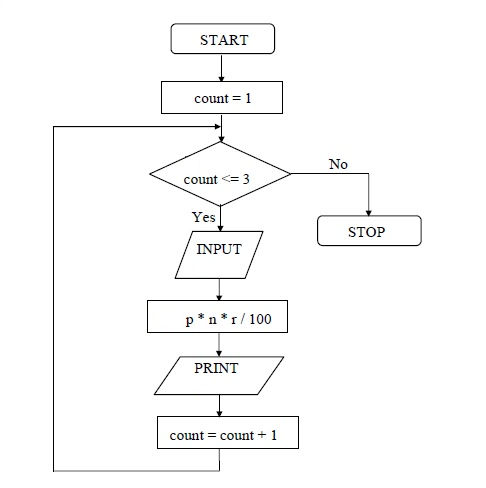arrow: (48, 123, 223, 474), (286, 171, 374, 217), (214, 276, 225, 300), (215, 206, 225, 231), (217, 114, 226, 141), (214, 331, 223, 358), (214, 394, 224, 416), (218, 54, 225, 81)
data: (152, 354, 286, 398), (171, 229, 265, 281)
decision: (149, 142, 291, 208)
process: (144, 298, 292, 337), (154, 414, 302, 451), (159, 79, 287, 117), (168, 20, 278, 57), (314, 213, 424, 248)
text: (169, 429, 280, 444), (183, 312, 272, 328), (180, 171, 251, 189), (190, 91, 254, 109), (199, 30, 250, 48), (190, 359, 240, 376), (195, 240, 243, 257), (345, 225, 389, 239), (190, 208, 217, 226), (326, 156, 351, 171)
